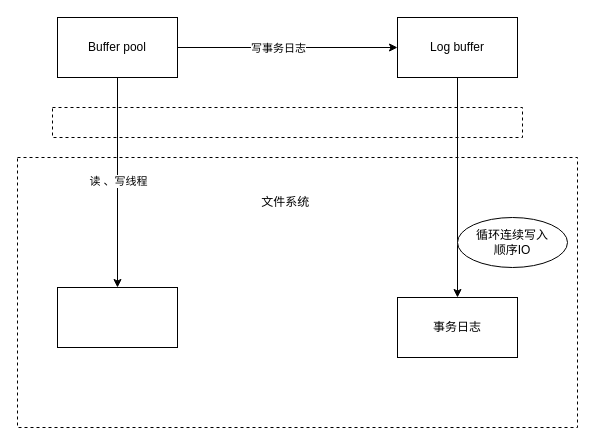
The diagram is 595 pixels wide and 445 high, and some of its shapes have lost their labels. The box of each missing label's shape, as (x1, y1, x2, y2) in pixels:
操作系统缓存: (52, 106, 522, 138)
数据、索引、undo日志等: (56, 286, 178, 348)
